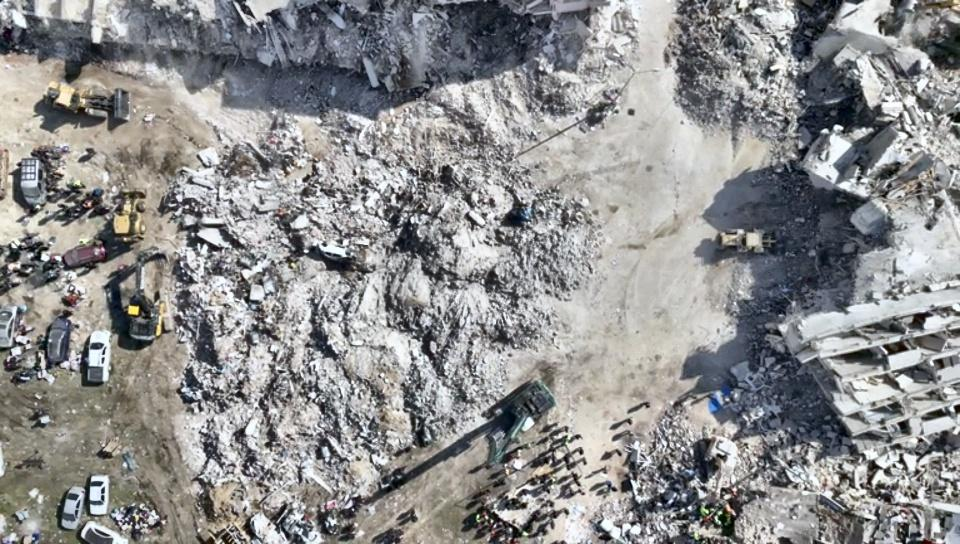kapali: (210, 62, 603, 181)
